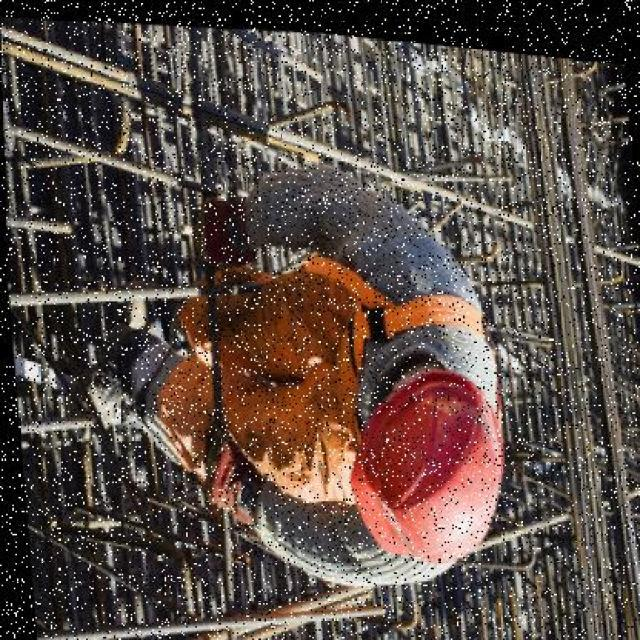helmet: (329, 339, 505, 570)
